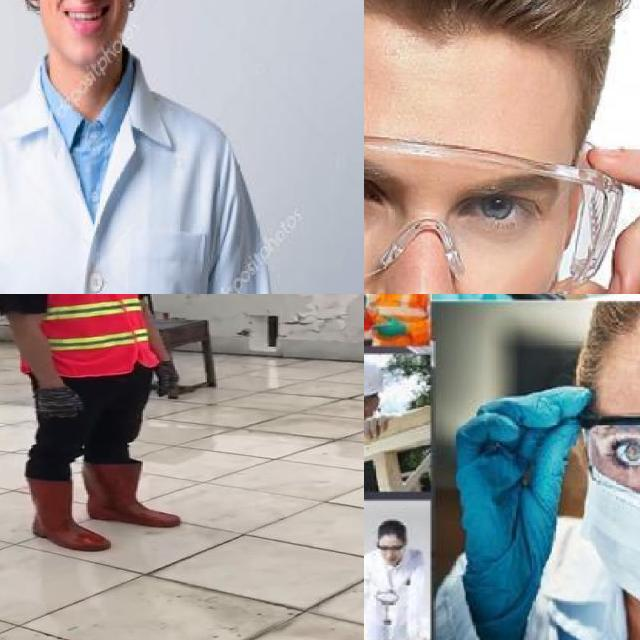boots: (11, 473, 114, 554), (86, 457, 184, 527)
face_mask: (364, 91, 623, 294), (589, 422, 640, 610)
face_nomask: (364, 146, 543, 294), (36, 0, 125, 33), (377, 539, 404, 563), (364, 393, 374, 420)
glasses: (573, 409, 640, 504)
hand_glove: (445, 378, 588, 638), (374, 313, 404, 340)
hand_noglove: (364, 410, 391, 445)
head_helmet: (364, 361, 388, 398)
head_nohelmet: (376, 516, 406, 538)
person: (0, 0, 273, 294), (0, 294, 221, 560), (364, 517, 428, 640), (364, 294, 430, 342)
vest: (0, 294, 157, 378)
